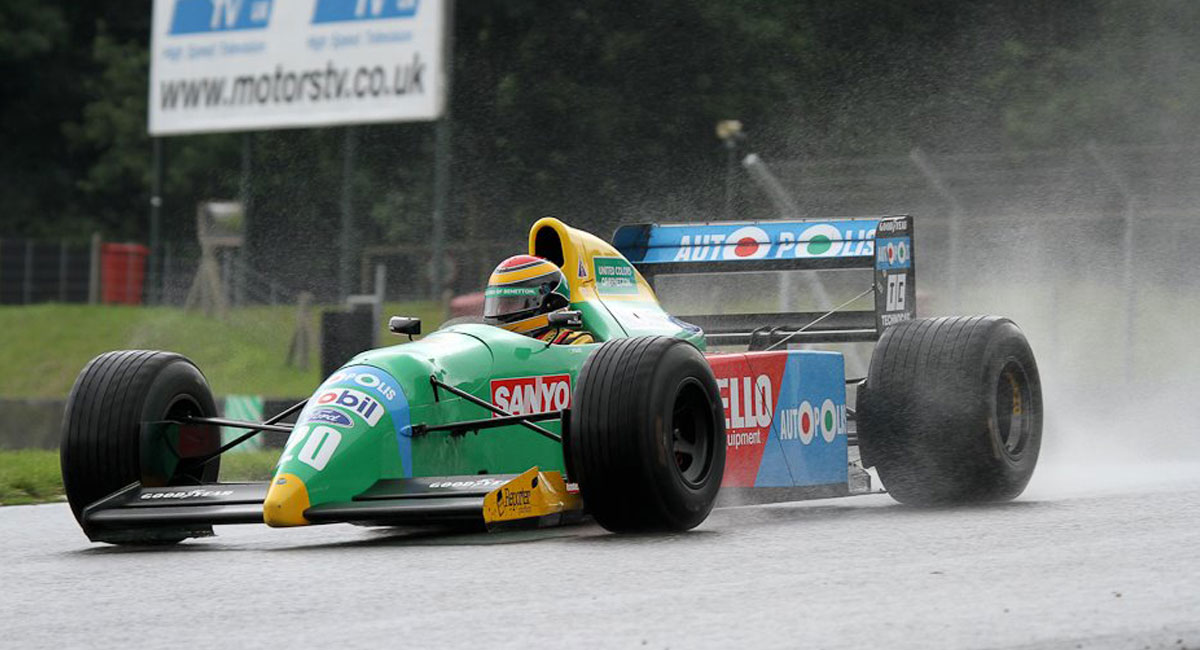f1_car: (43, 180, 1078, 569)
helmet: (470, 247, 584, 345)
